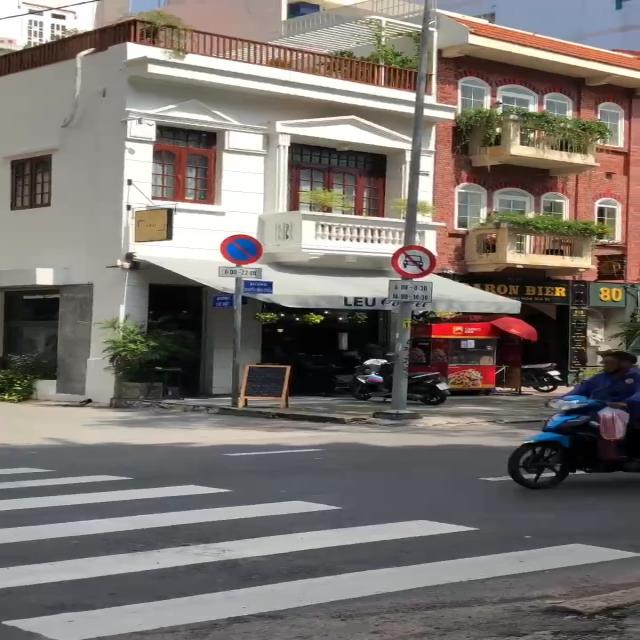Bien bao cam do xe: (218, 234, 264, 267)
Bien bao cam xe oto: (388, 244, 438, 278)
